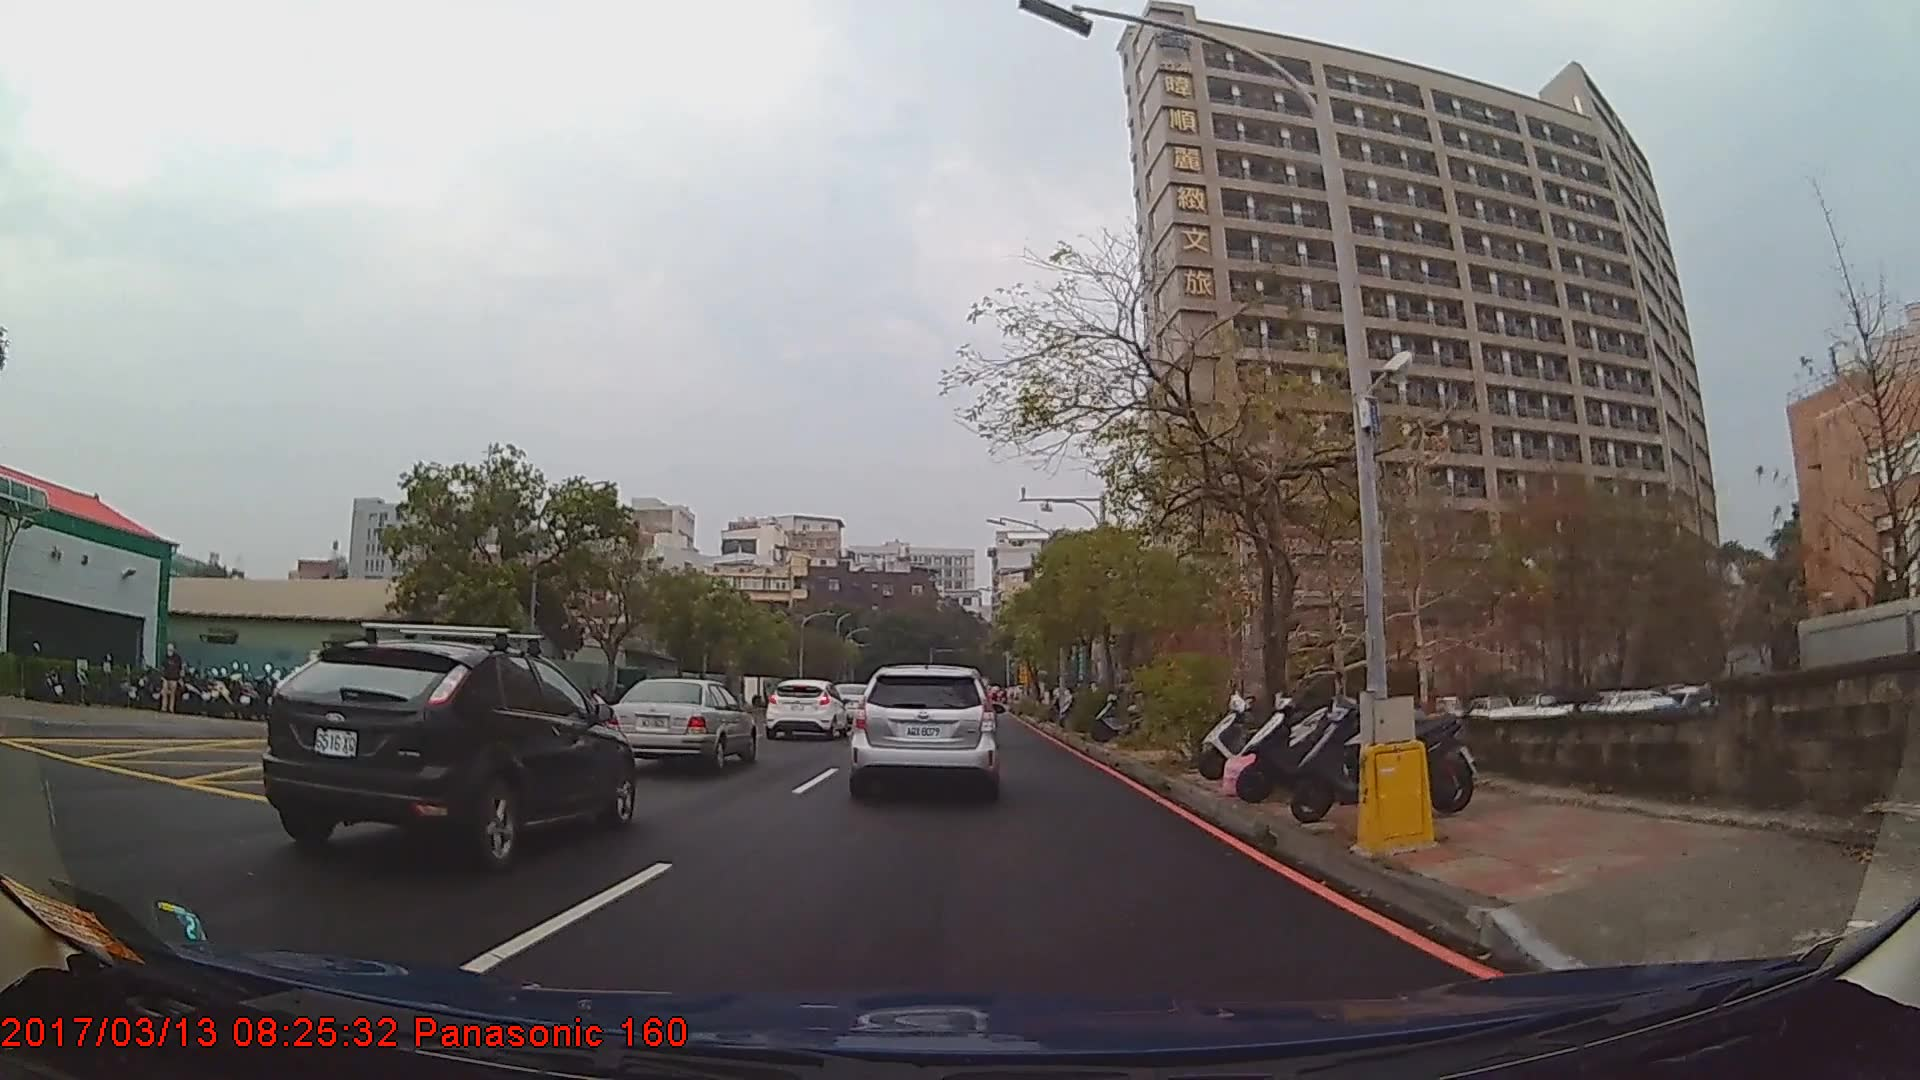pedestrian: (161, 643, 186, 716)
vehicle: (260, 637, 633, 862), (848, 660, 996, 798), (605, 676, 757, 772), (763, 676, 849, 738)
